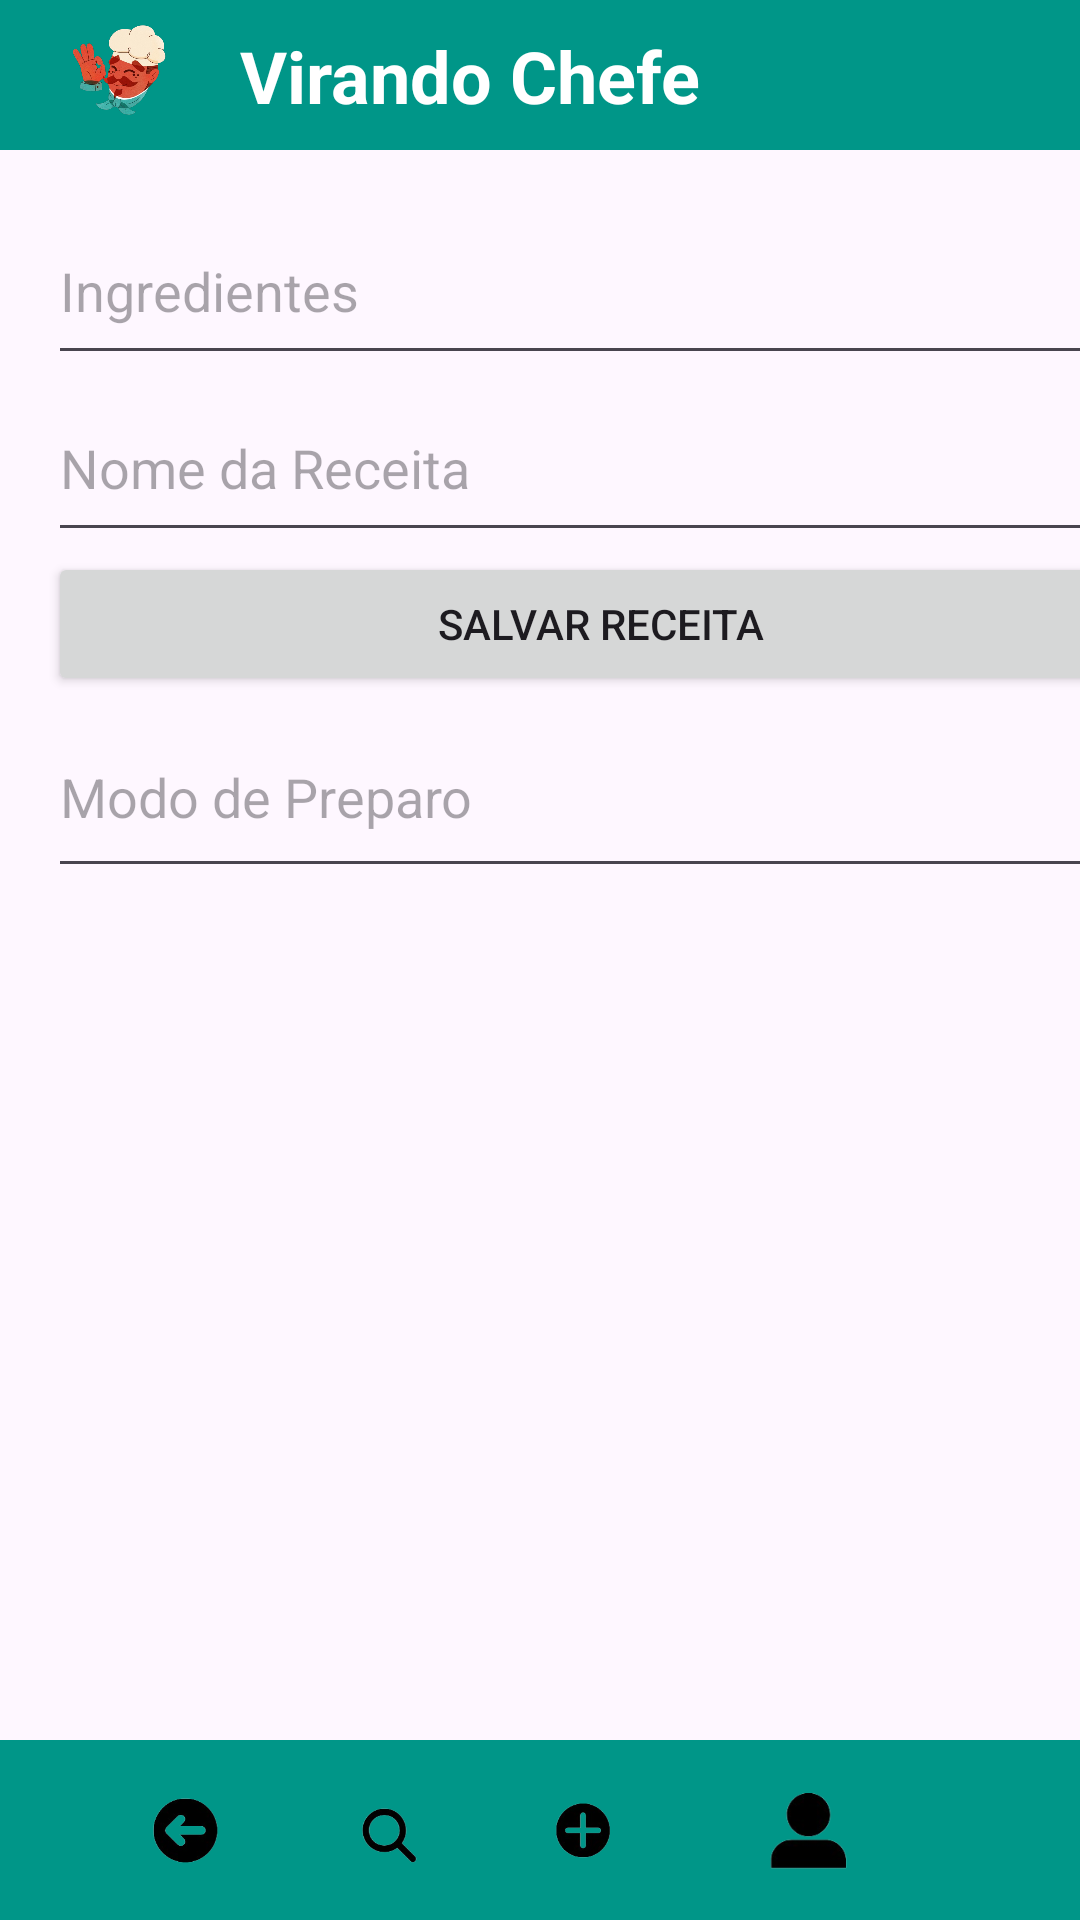

Locate icon controls on the screen. Image size 1080w x 1920h, boxes as bbox=(x1, y1, x2, y2).
Adicionar: bbox=(556, 1803, 610, 1858)
Perfil: bbox=(770, 1793, 847, 1869)
Pesquisar: bbox=(362, 1808, 417, 1862)
Voltar: bbox=(153, 1798, 218, 1863)
